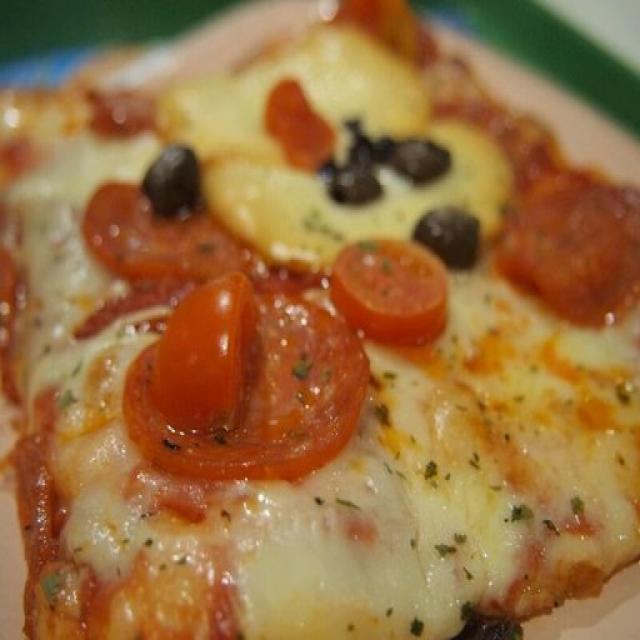Olives: (266, 79, 331, 160), (136, 143, 207, 206), (418, 210, 482, 266), (344, 115, 402, 162), (396, 136, 448, 176), (329, 170, 385, 204), (316, 152, 367, 180)
Pepperoni: (113, 278, 378, 481), (88, 179, 338, 295), (509, 178, 640, 320), (101, 80, 156, 136)
Pizza: (0, 7, 640, 638)
Tomato: (144, 279, 255, 443), (332, 227, 443, 351)
